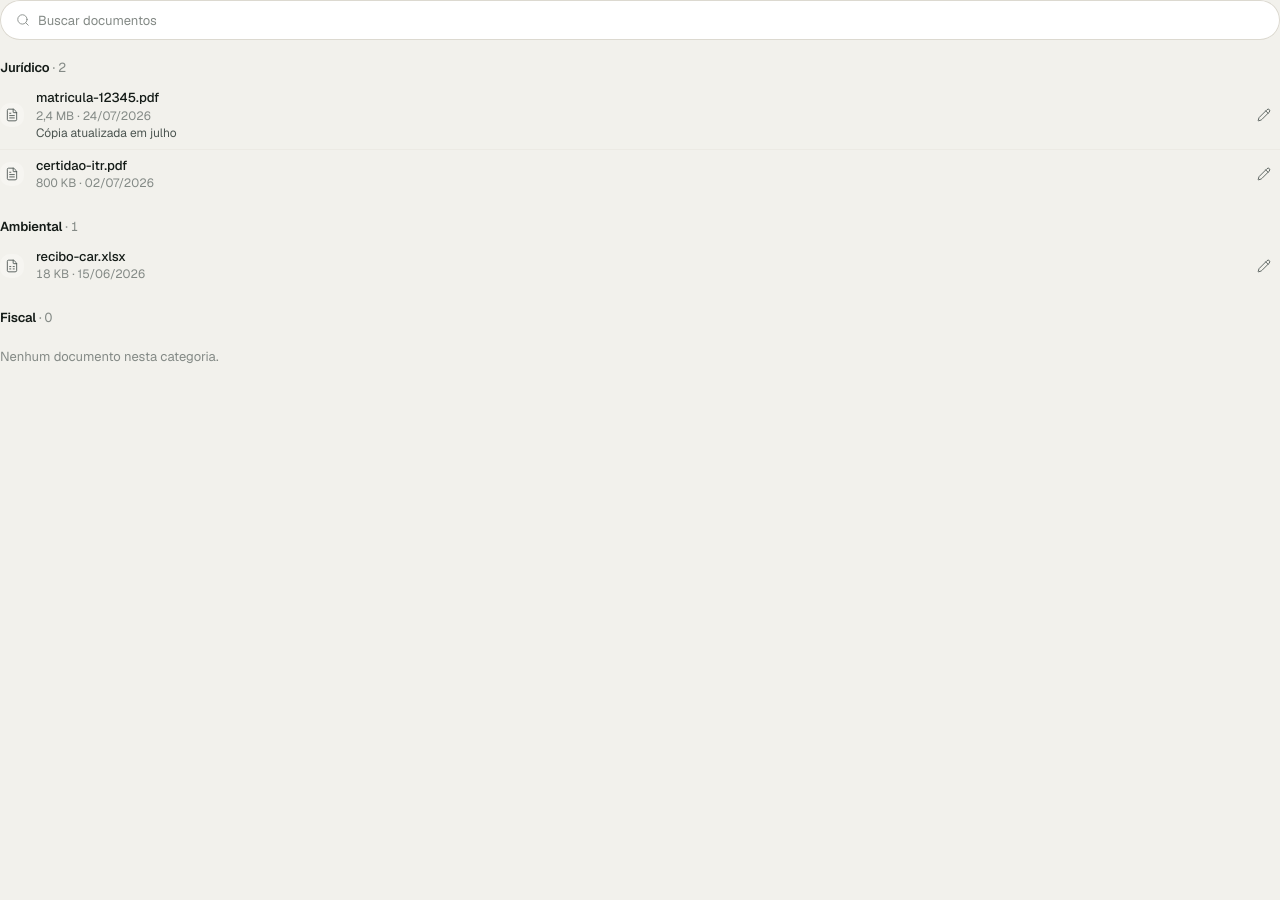
Test: DocumentManager — ações › Escape fecha a edição sem salvar e devolve o foco ao botão
This screenshot has width=1280, height=900.
Click the button named "Editar certidao-itr.pdf". click: (1264, 174)
box: [1248,158,1279,190]
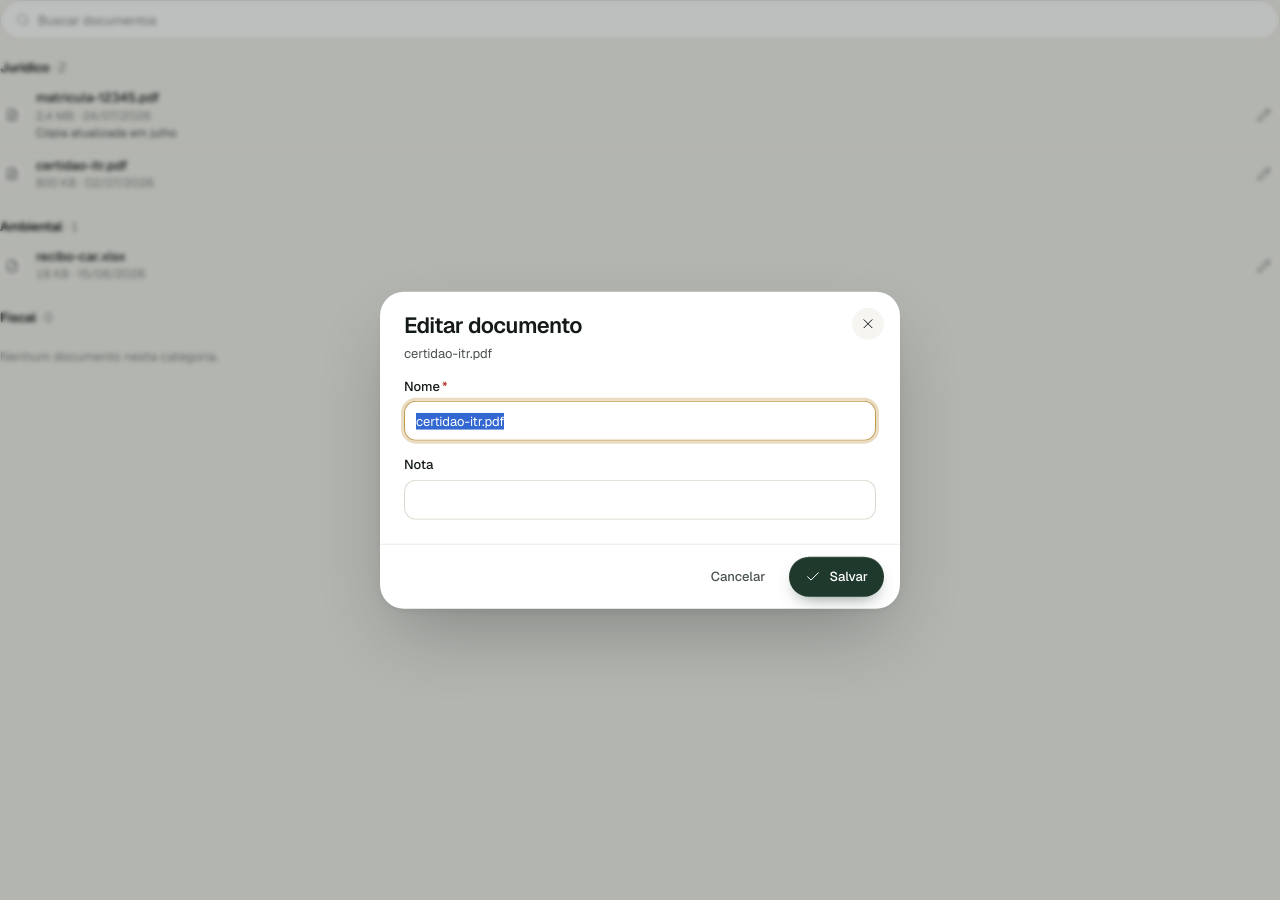
Type "rascunho" into the field labelled "Nota". click: (640, 499)
box: [416,479,864,519]
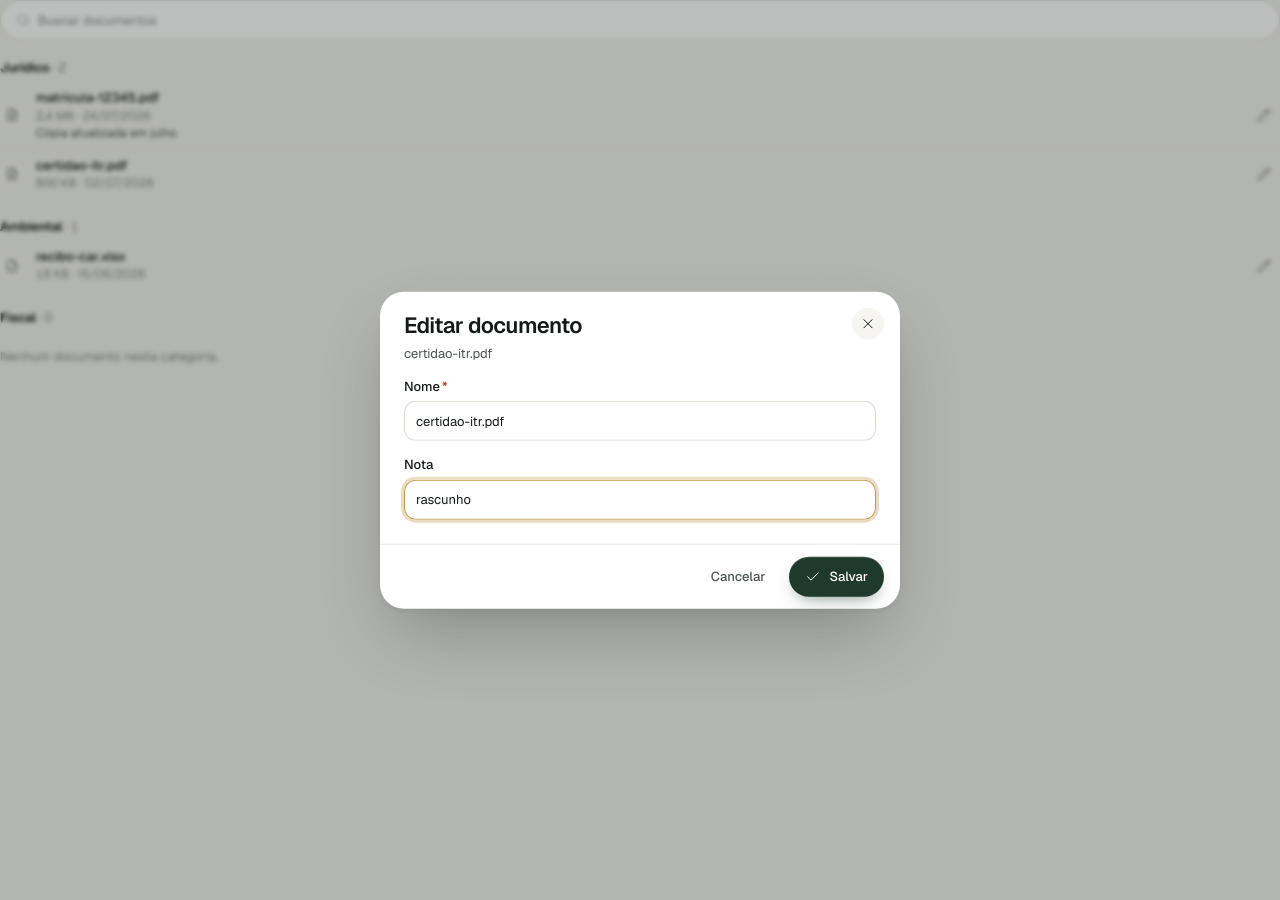
Press Escape
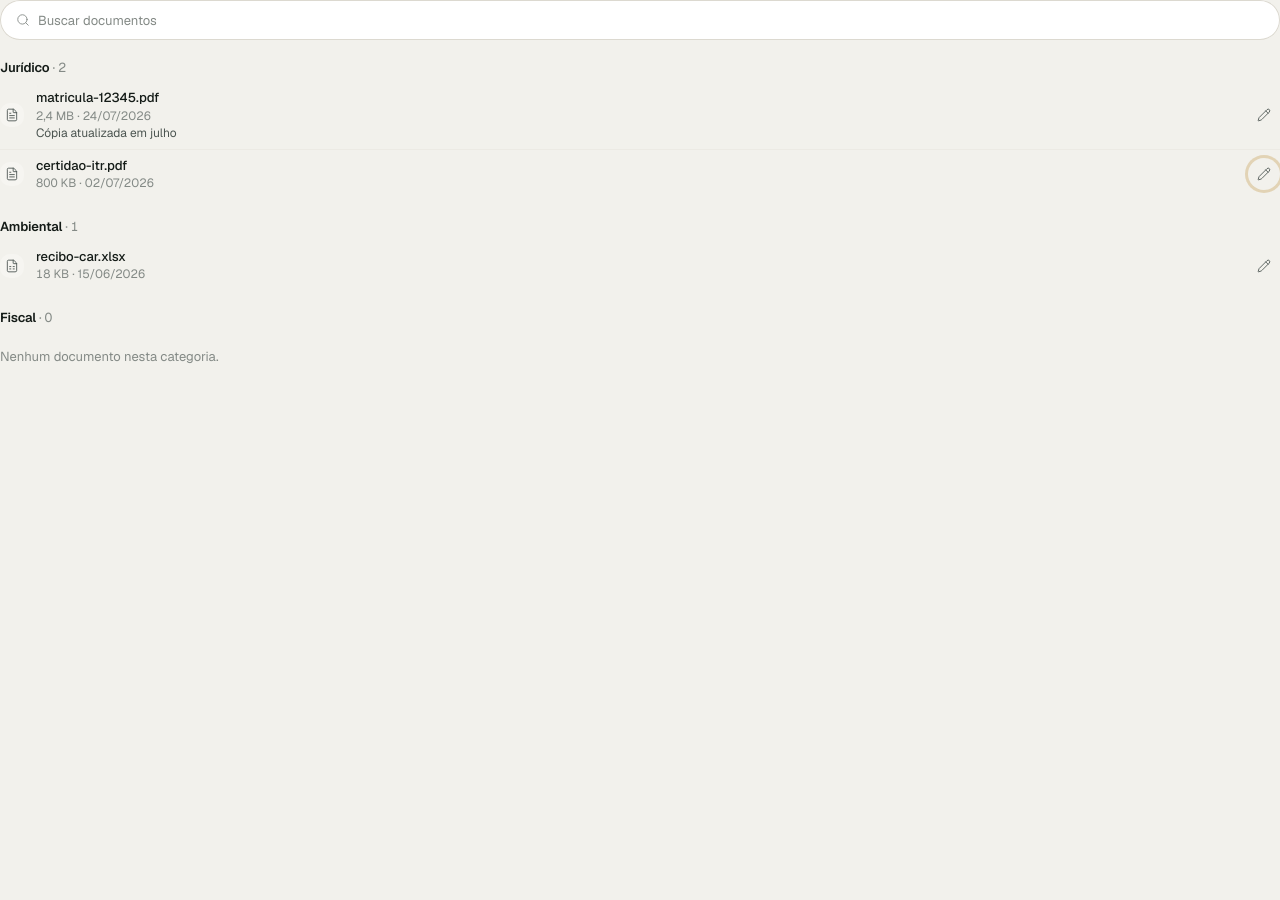
Expected: the dialog is gone
